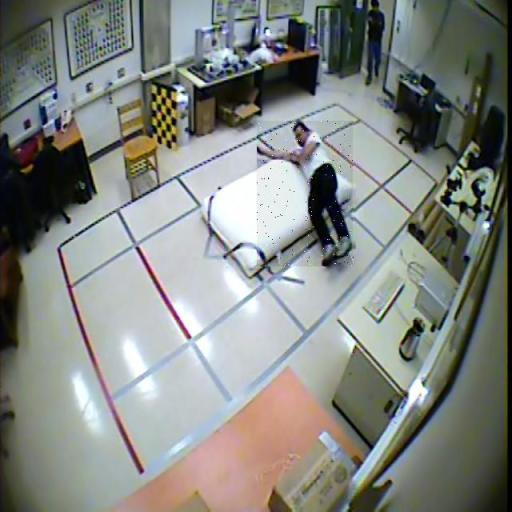Fall: (258, 121, 355, 266)
